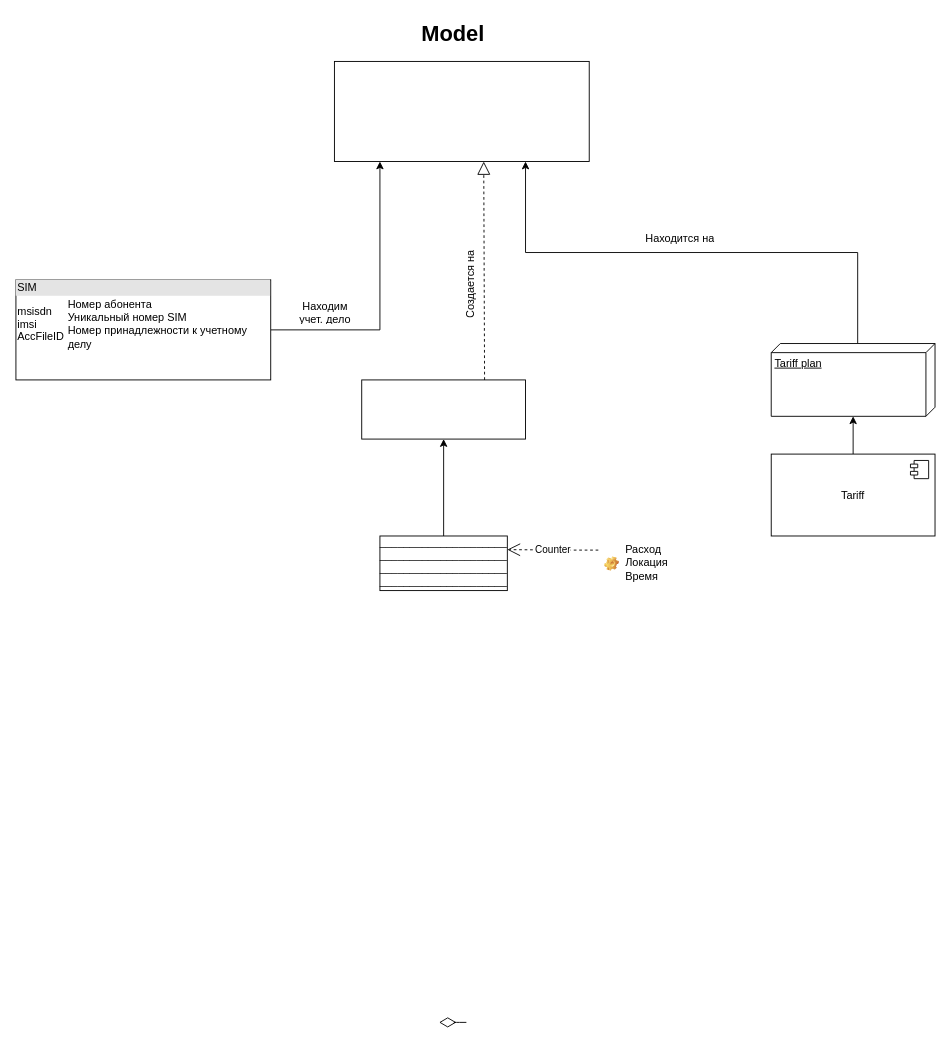
Image size: 951x1055. Some labels were removed from this diagram. Here are the shapes that lost their labels. From the top down, the box of each, then its label:
(334, 61, 589, 162): Accounting file Маркетинговый тарифный план (Коммерческий)
(361, 379, 526, 439): Package volume Объем policy rules Правило расхода
